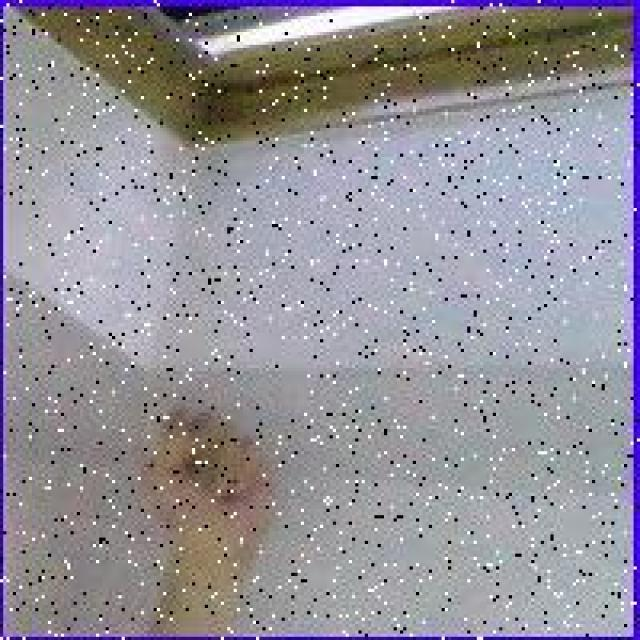S: (138, 397, 282, 550)
